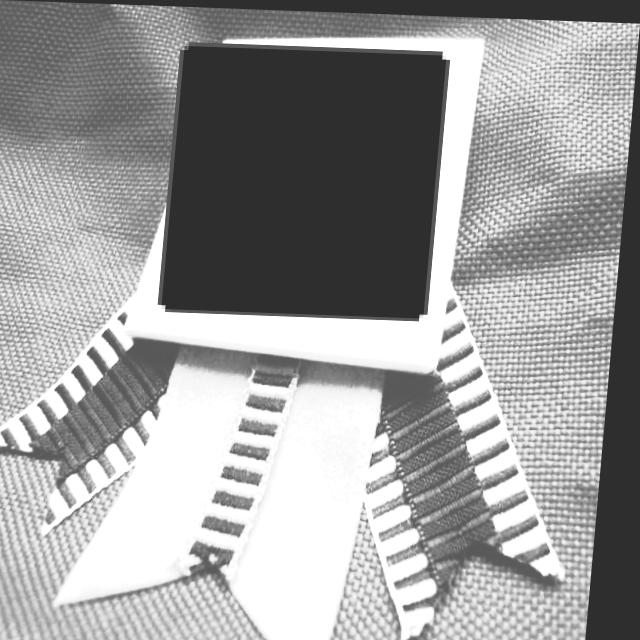qr_code: (167, 44, 447, 315)
